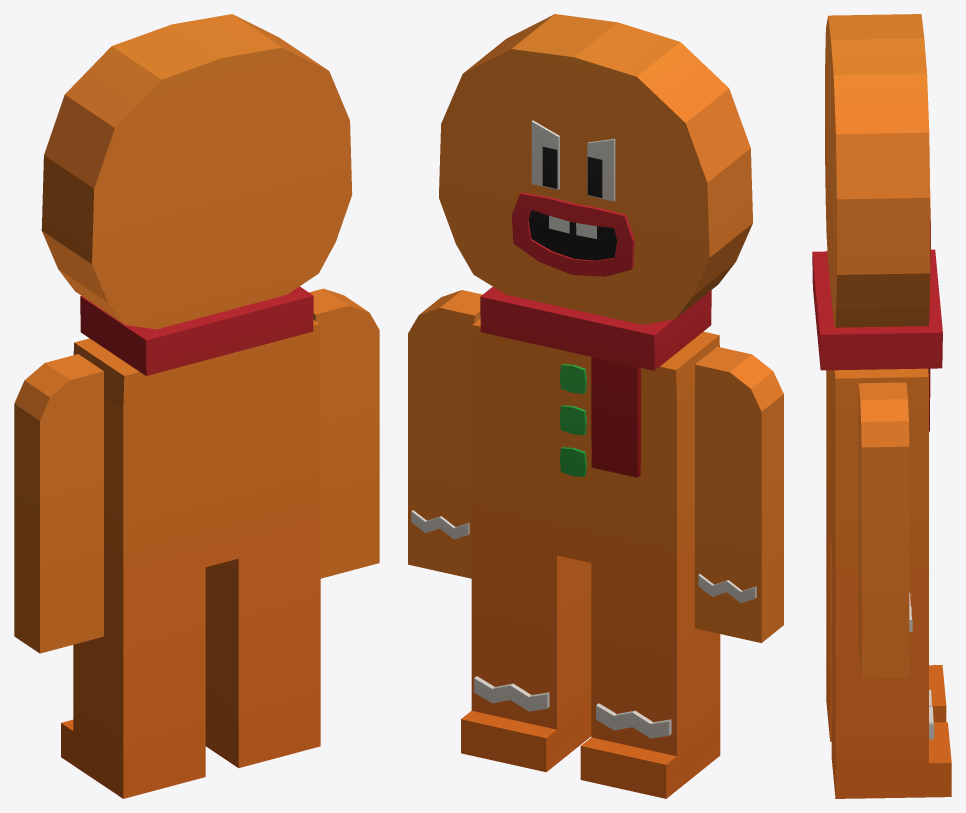
File: gingerbread_from_chicken_gun.glb
3 renders of one model, left to right at view 1: azimuth 30°, elevation 25°; view 2: azimuth 150°, elevation 25°; view 3: azimuth 270°, elevation 25°, orthographic.
Parts seen in each view (by area): view 1: Gingerbread_5_4; view 2: Gingerbread_5_4; view 3: Gingerbread_5_4.
Part boxes in pixels (x1,y1,x2,y2): Gingerbread_5_4: (14,14,379,798); Gingerbread_5_4: (408,14,783,798); Gingerbread_5_4: (812,14,951,798).
Size of the model in its own units: 1.69 by 3.31 by 0.5898.
1 material, 1 textured.
